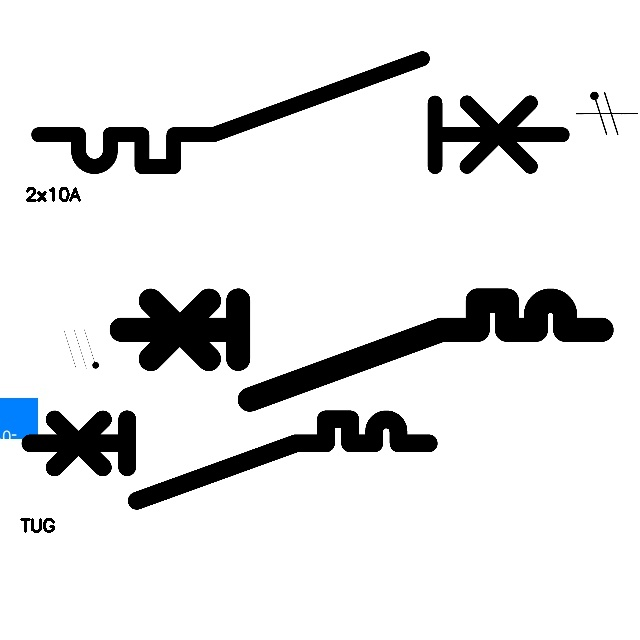interruptor_termomagnetico: (25, 45, 576, 180), (109, 288, 614, 411), (20, 409, 439, 511)
